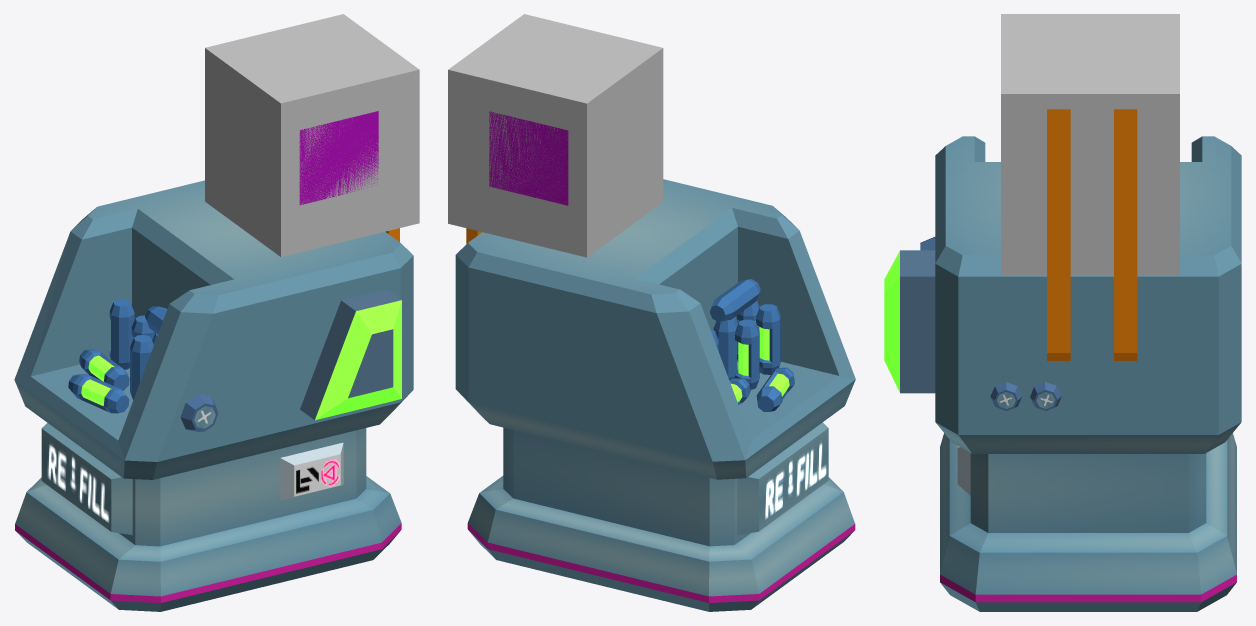
File: SM_Health_Machine.fbx
3 renders of one model, left to right at view 1: azimuth 30°, elevation 25°; view 2: azimuth 150°, elevation 25°; view 3: azimuth 270°, elevation 25°, orthographic. The views are drawn at different scales.
Parts seen in each view (by area): view 1: SM_Health_Machine, SM_Health_Machine_ConvexHulls; view 2: SM_Health_Machine, SM_Health_Machine_ConvexHulls; view 3: SM_Health_Machine, SM_Health_Machine_ConvexHulls.
Boxes of the visible parts, x1=… form: SM_Health_Machine: x1=14, y1=111, x2=413, y2=611; SM_Health_Machine_ConvexHulls: x1=205, y1=14, x2=419, y2=256; SM_Health_Machine: x1=455, y1=111, x2=855, y2=611; SM_Health_Machine_ConvexHulls: x1=448, y1=14, x2=663, y2=257; SM_Health_Machine: x1=884, y1=109, x2=1241, y2=611; SM_Health_Machine_ConvexHulls: x1=1001, y1=14, x2=1179, y2=274.
Bounding box in the file's own units: 176 × 144 × 241.
